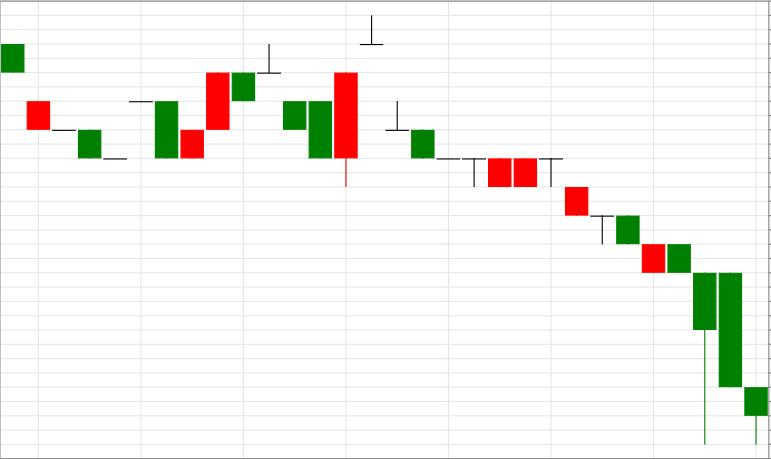bullish_engulfing_rise: (232, 43, 358, 188)
hammer_rise: (565, 188, 717, 446)
